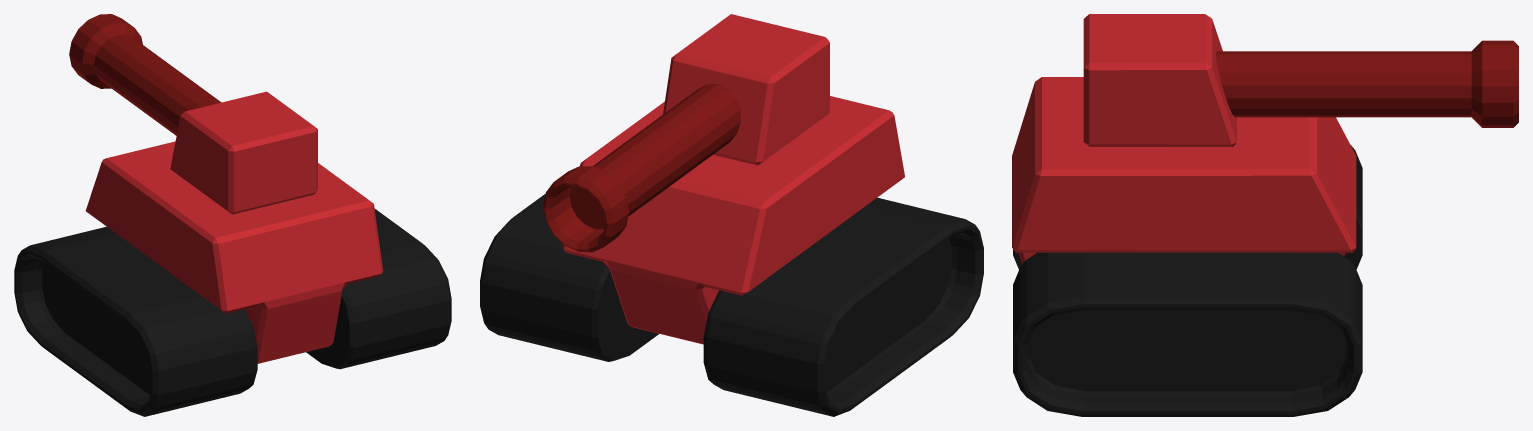
File: tank.fbx
The picture shows the model from 3 angles, left to right: view 1: azimuth 30°, elevation 25°; view 2: azimuth 150°, elevation 25°; view 3: azimuth 270°, elevation 25°; orthographic projection. The views are drawn at different scales.
Parts seen in each view (by area): view 1: Tank; view 2: Tank; view 3: Tank.
Boxes of the visible parts, x1=… form: Tank: x1=14, y1=14, x2=451, y2=416; Tank: x1=480, y1=14, x2=983, y2=416; Tank: x1=1012, y1=14, x2=1518, y2=416.
Size of the model in its own units: 276 by 331 by 210.
